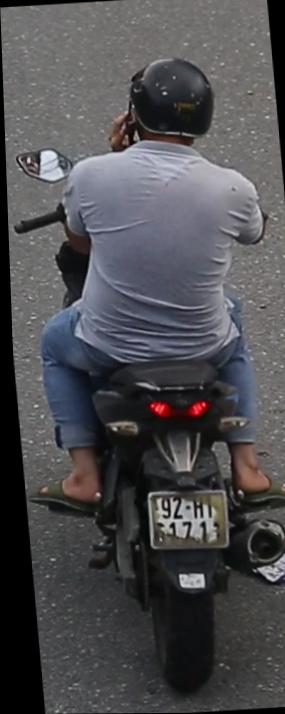LP: (138, 472, 234, 565)
helmet: (117, 46, 224, 155)
